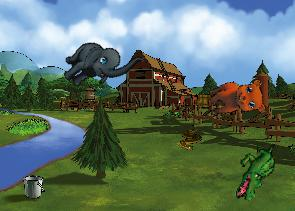bear: (202, 71, 271, 130)
crocodile: (234, 140, 277, 203)
elephant: (55, 20, 144, 108)
